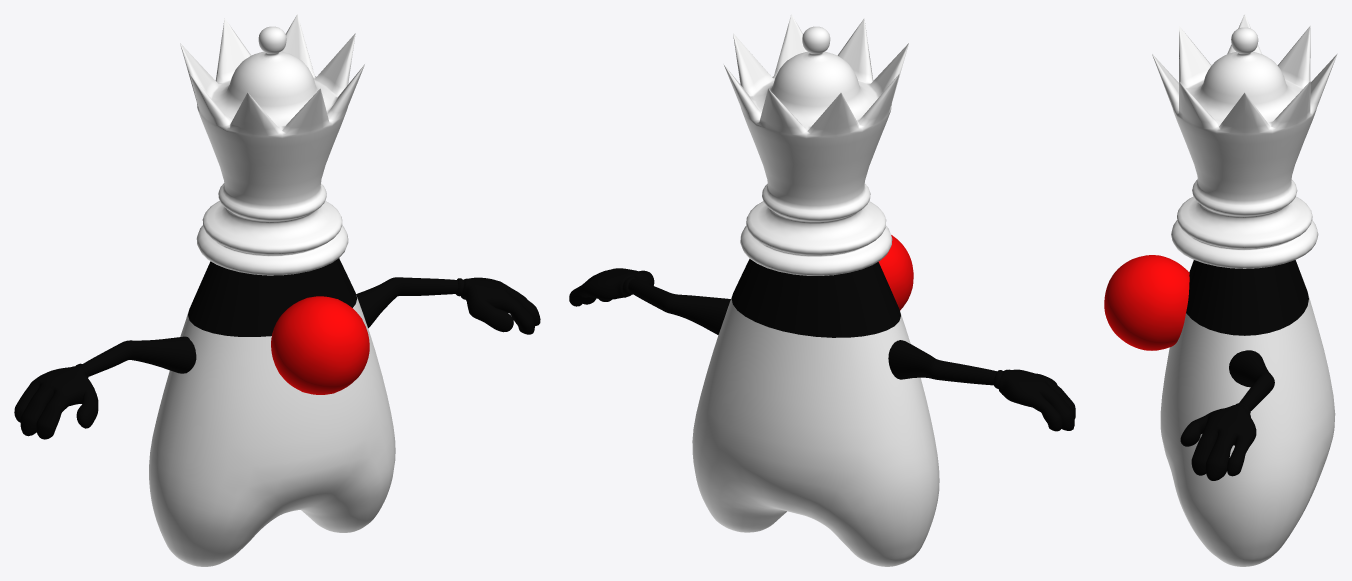
File: queen.fbx
The picture shows the model from 3 angles, left to right: view 1: azimuth 30°, elevation 25°; view 2: azimuth 150°, elevation 25°; view 3: azimuth 270°, elevation 25°; orthographic projection. The views are drawn at different scales.
Parts seen in each view (by area): view 1: queen; view 2: queen; view 3: queen.
Boxes of the visible parts, x1,y1,x2,y2 form: queen: (14, 14, 540, 566); queen: (569, 14, 1075, 566); queen: (1104, 14, 1337, 566).
Bounding box in the file's own units: 2520 × 2461 × 1041.
